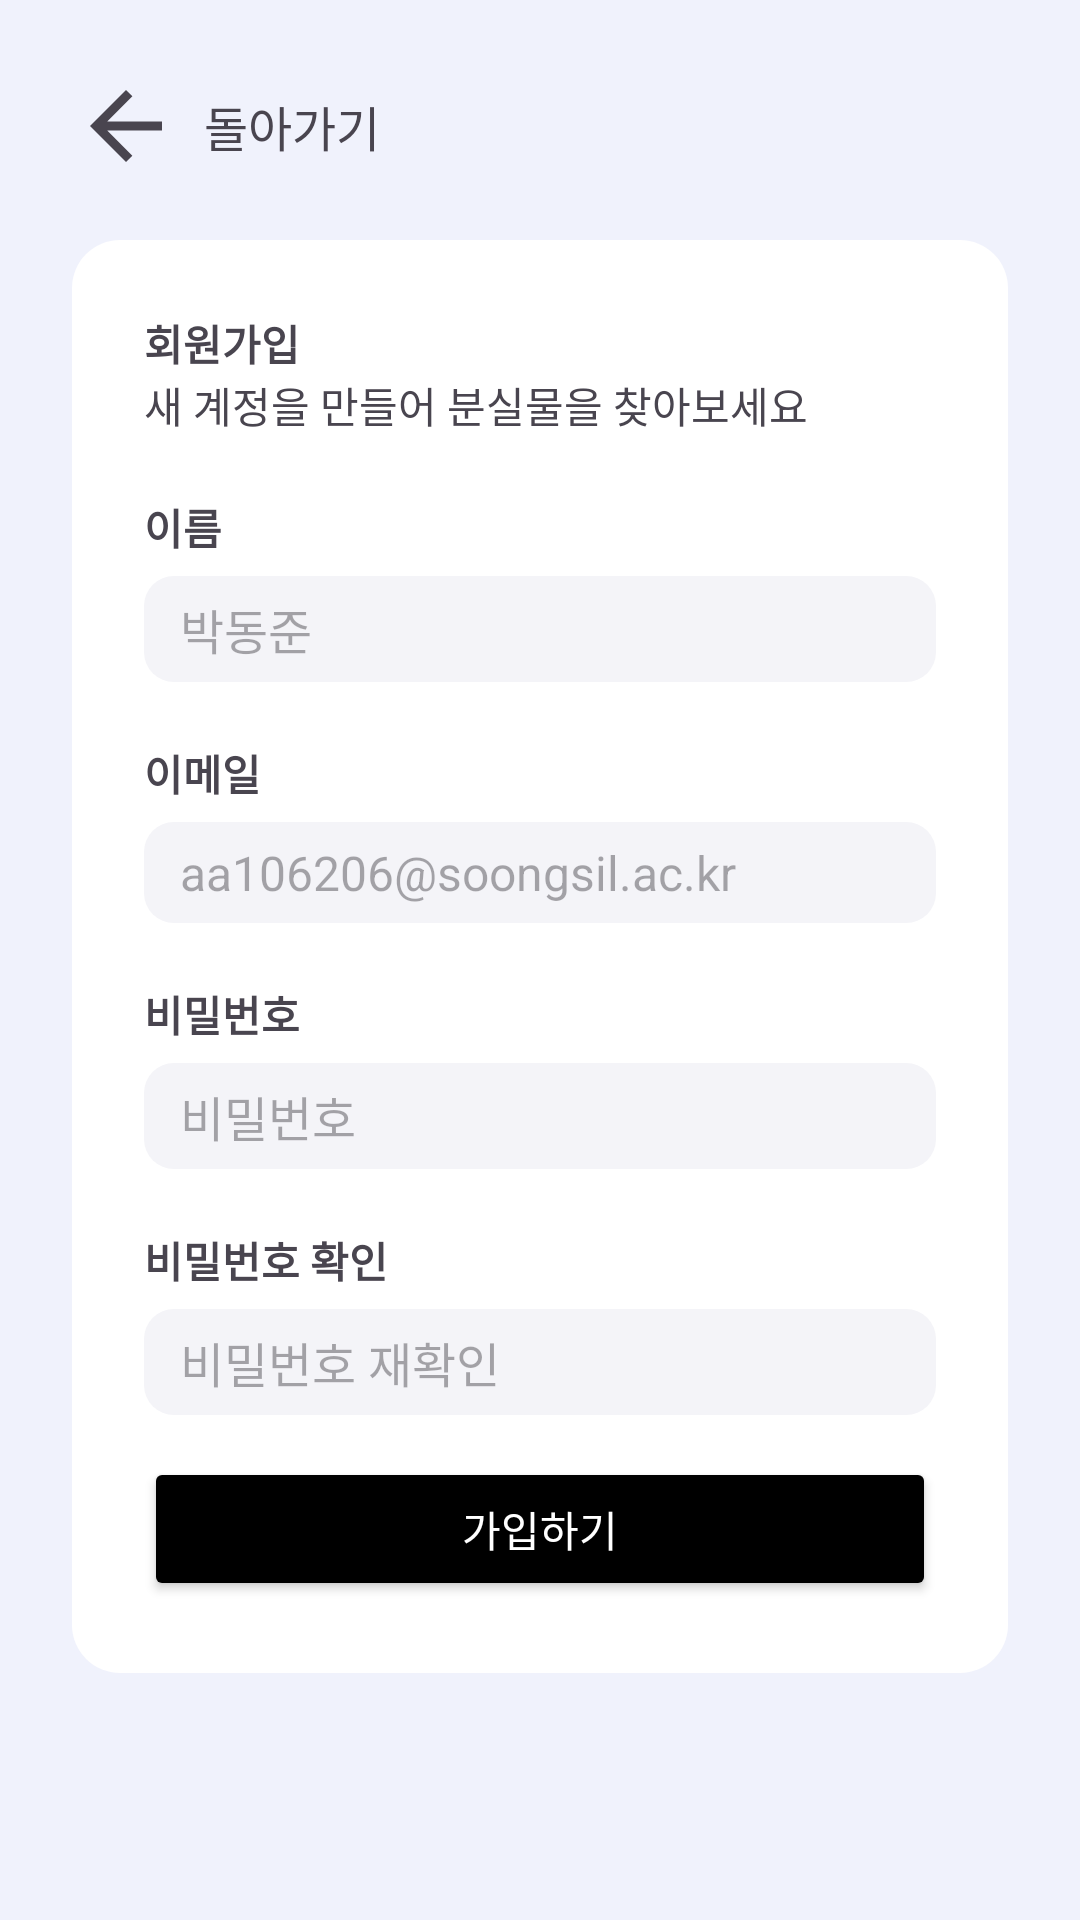

Screen size 1080x1920. Icon name, then its center in pixels as [x,y]:
left arrow: [126,126]
